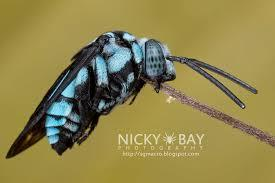Thyreus: (14, 29, 227, 168)
